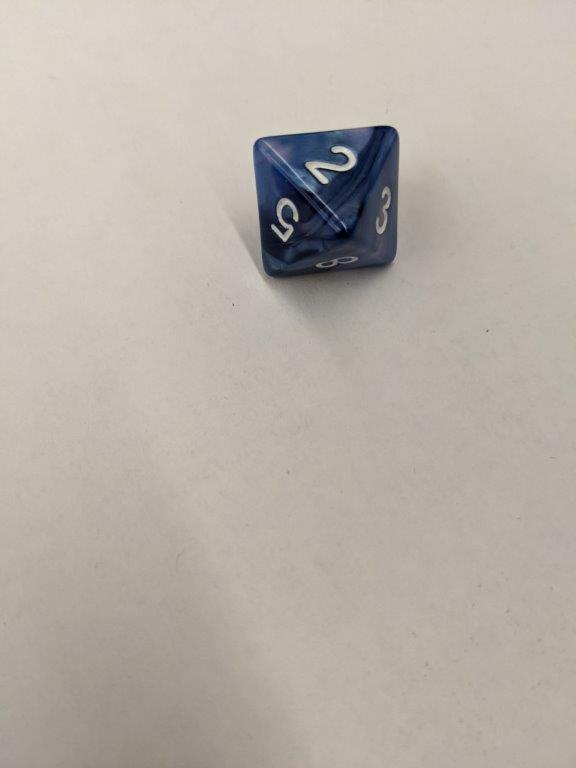d8-2: (253, 125, 401, 277)
